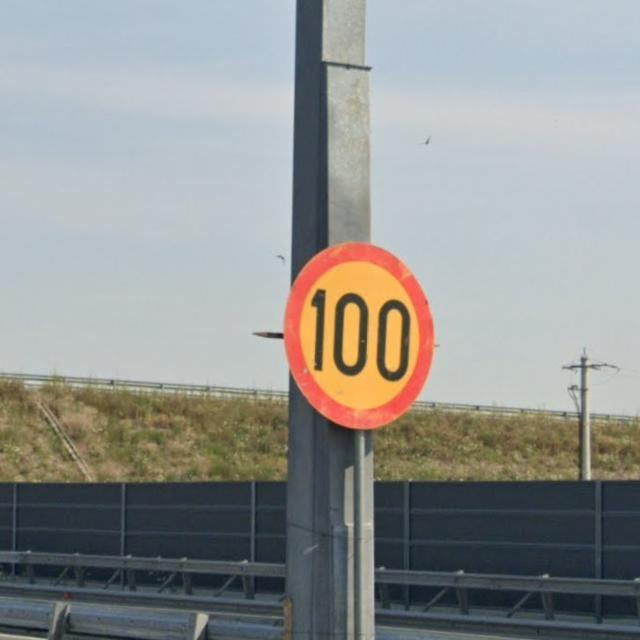forb_speed_over_100: (284, 241, 435, 432)
